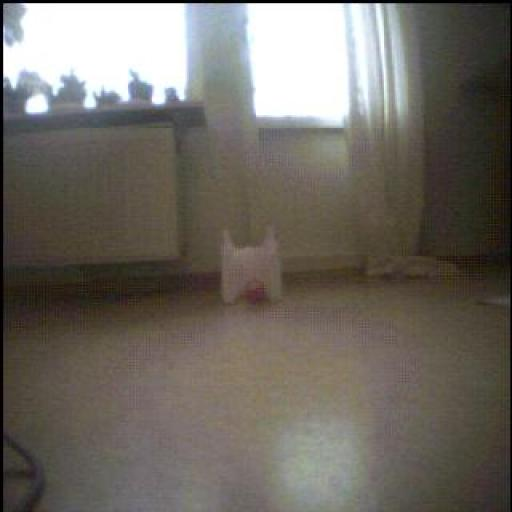Basket: (246, 283, 268, 305)
